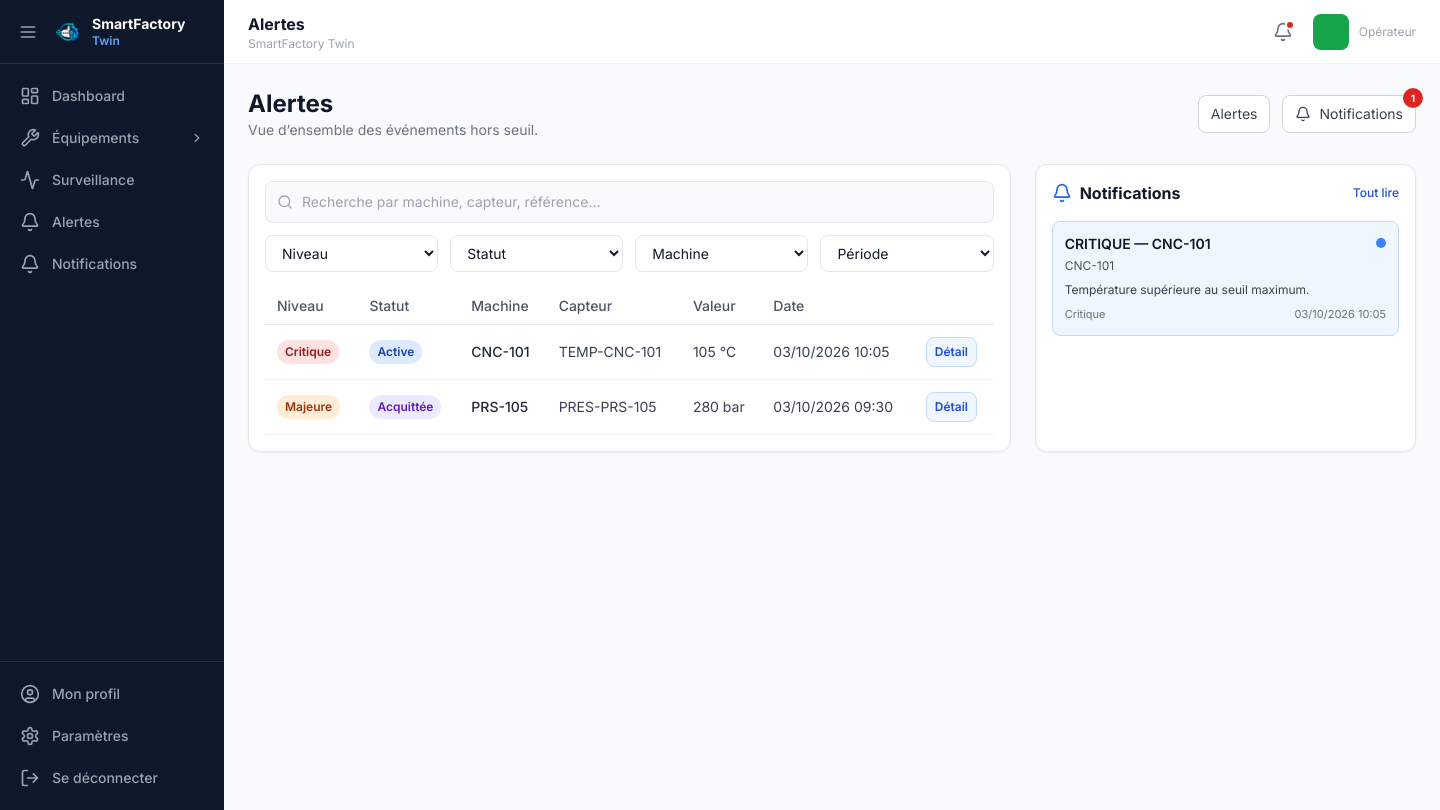
Test: AlertesPage › affiche les notifications et les marque comme lues
Click the text "CRITIQUE — CNC-101" at {"x": 1138, "y": 244}, box [1065,234,1211,254]
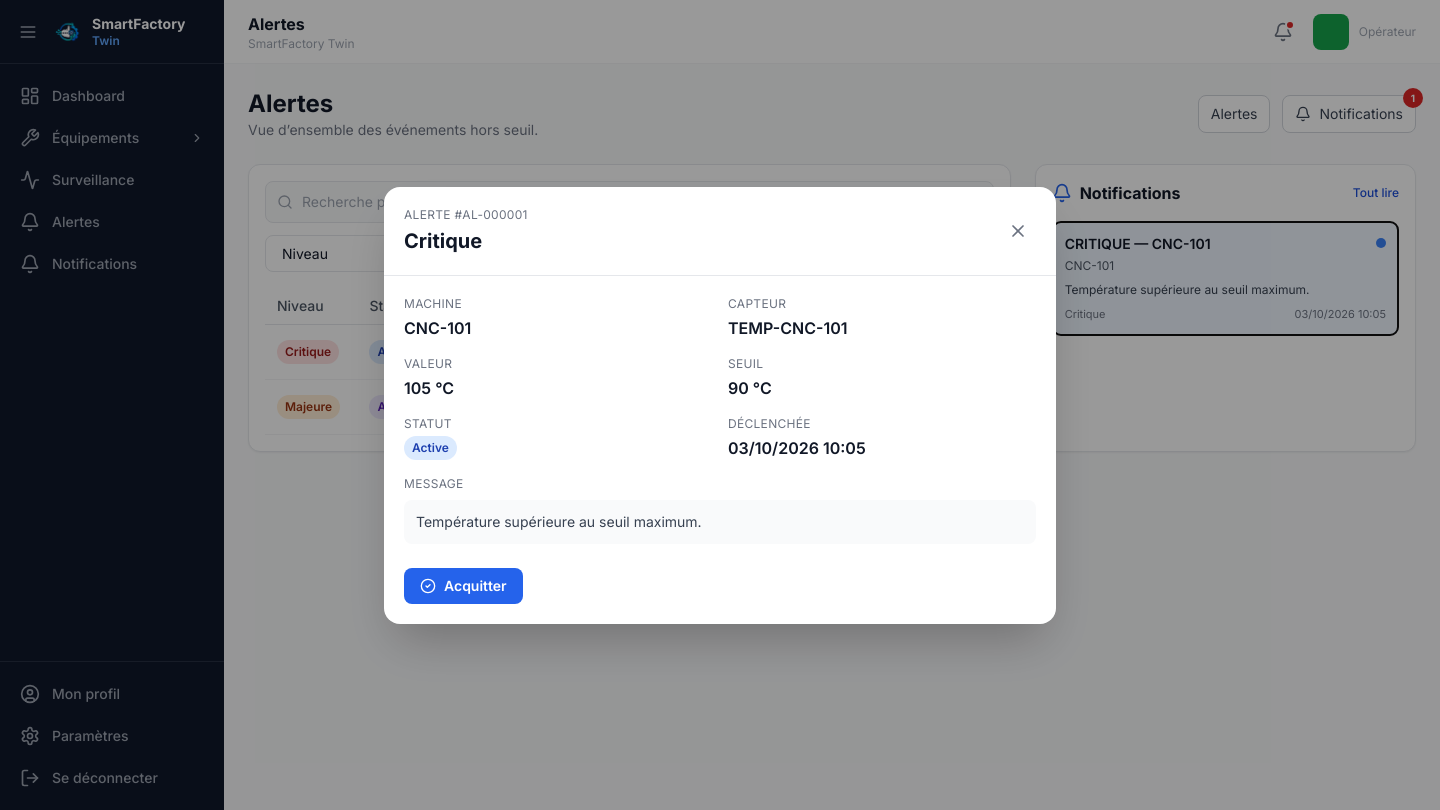
Check: the text "Alerte #AL-000001" is shown, box [404,206,528,222]
